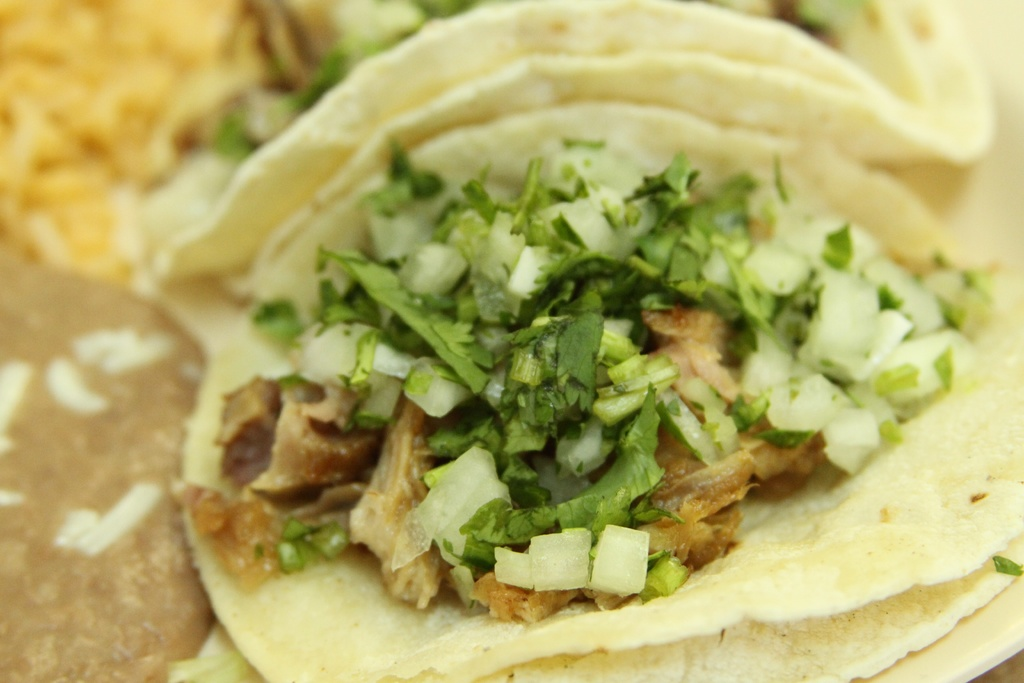taco: (171, 97, 1023, 682)
